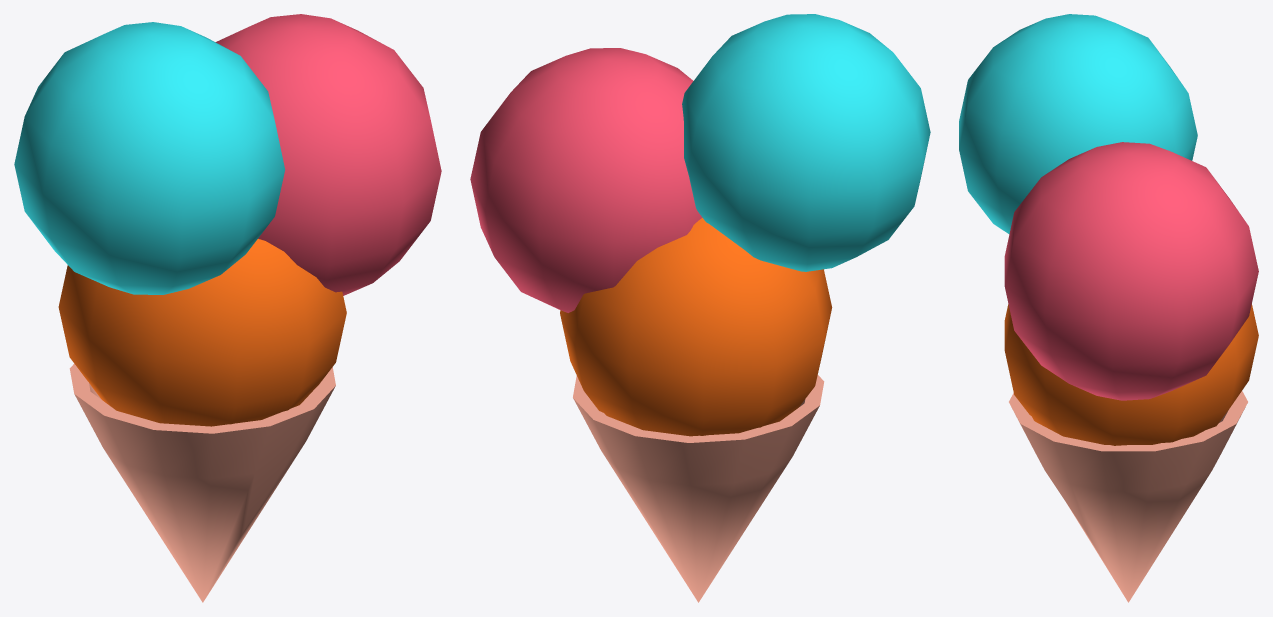
Rendered from CandyCone_2.fbx.
3 views of the same model, side by side, from view 1: azimuth 30°, elevation 25°; view 2: azimuth 150°, elevation 25°; view 3: azimuth 270°, elevation 25° (orthographic). The views are drawn at different scales.
Parts seen in each view (by area): view 1: Sphere.019, Sphere.018, Sphere.017, Cone; view 2: Sphere.019, Sphere.018, Sphere.017, Cone; view 3: Sphere.018, Sphere.019, Cone, Sphere.017.
Boxes of the visible parts, box(x1,y1,x2,y2) form: Sphere.019: box(14, 22, 285, 294); Sphere.018: box(215, 14, 441, 295); Sphere.017: box(58, 239, 346, 426); Cone: box(69, 363, 335, 602); Sphere.019: box(682, 14, 930, 271); Sphere.018: box(470, 48, 702, 312); Sphere.017: box(560, 218, 832, 436); Cone: box(573, 375, 824, 602); Sphere.018: box(1004, 142, 1258, 400); Sphere.019: box(959, 14, 1197, 233); Cone: box(1009, 391, 1247, 602); Sphere.017: box(1004, 304, 1258, 445).
Bounding box in the file's own units: 38.1 × 52.85 × 26.48.
